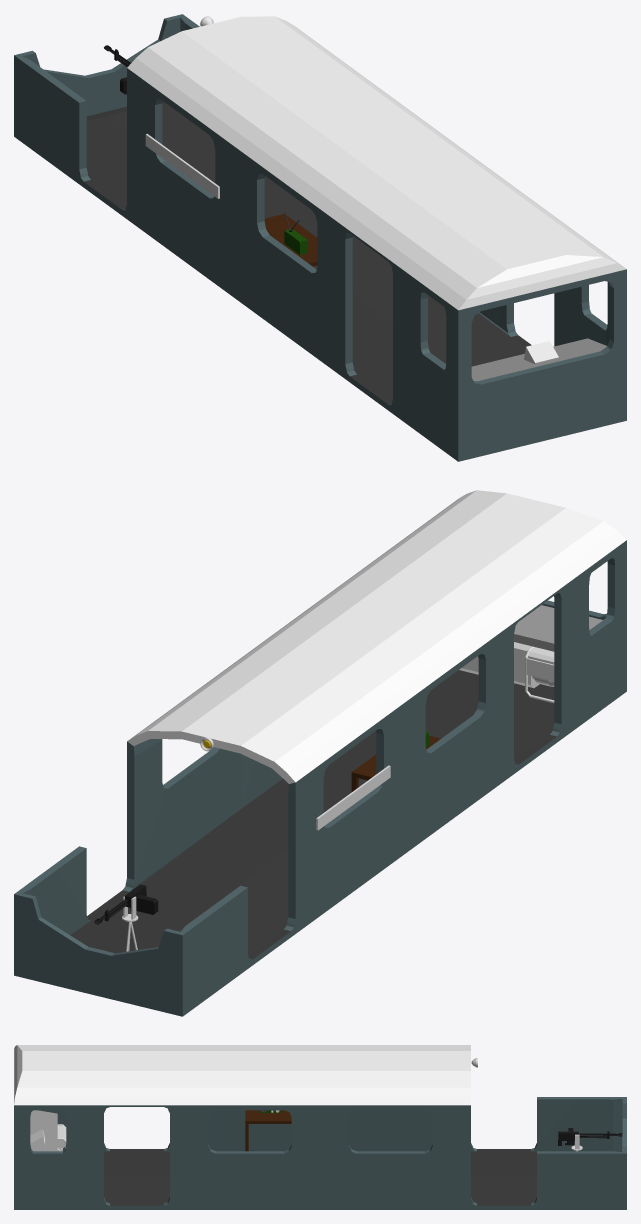
The model's file is trian.fbx.
The picture shows the model from 3 angles, top to bottom: view 1: azimuth 30°, elevation 25°; view 2: azimuth 150°, elevation 25°; view 3: azimuth 270°, elevation 25°; orthographic projection. The views are drawn at different scales.
Visible parts, largest first — view 1: Train, ControlPanel.001, Desk, Plank; view 2: Train, ControlPanel.001, Plank, Cube, Cube.001; view 3: Train, ControlPanel.001, Desk, Cube.
Part boxes in pixels (left/top/right/bottom): Train: left=14, top=14, right=626, bottom=461; ControlPanel.001: left=471, top=338, right=606, bottom=381; Desk: left=264, top=214, right=317, bottom=266; Plank: left=145, top=134, right=219, bottom=198; Train: left=14, top=490, right=626, bottom=1016; ControlPanel.001: left=514, top=605, right=602, bottom=651; Plank: left=316, top=765, right=390, bottom=830; Cube: left=94, top=884, right=158, bottom=924; Cube.001: left=459, top=642, right=539, bottom=688; Train: left=14, top=1045, right=626, bottom=1209; ControlPanel.001: left=30, top=1110, right=57, bottom=1151; Desk: left=245, top=1110, right=291, bottom=1151; Cube: left=558, top=1128, right=622, bottom=1145.
Size of the model in its own units: 57.49 by 58.01 by 259.
